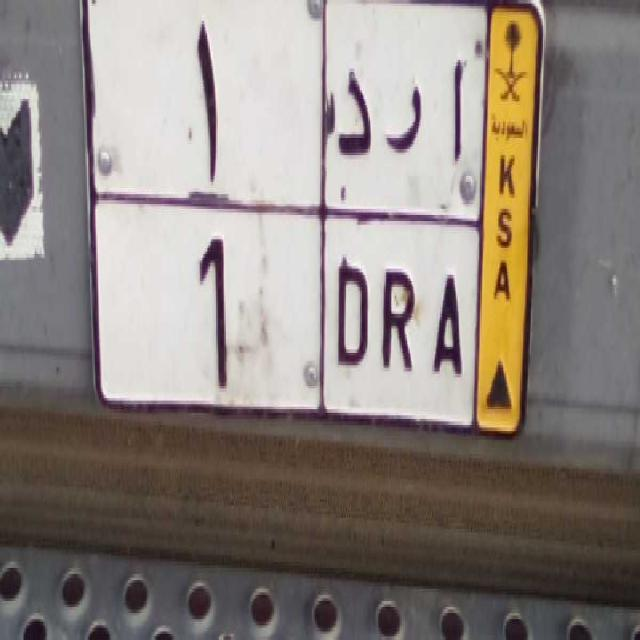license_plate: (90, 187, 481, 432)
